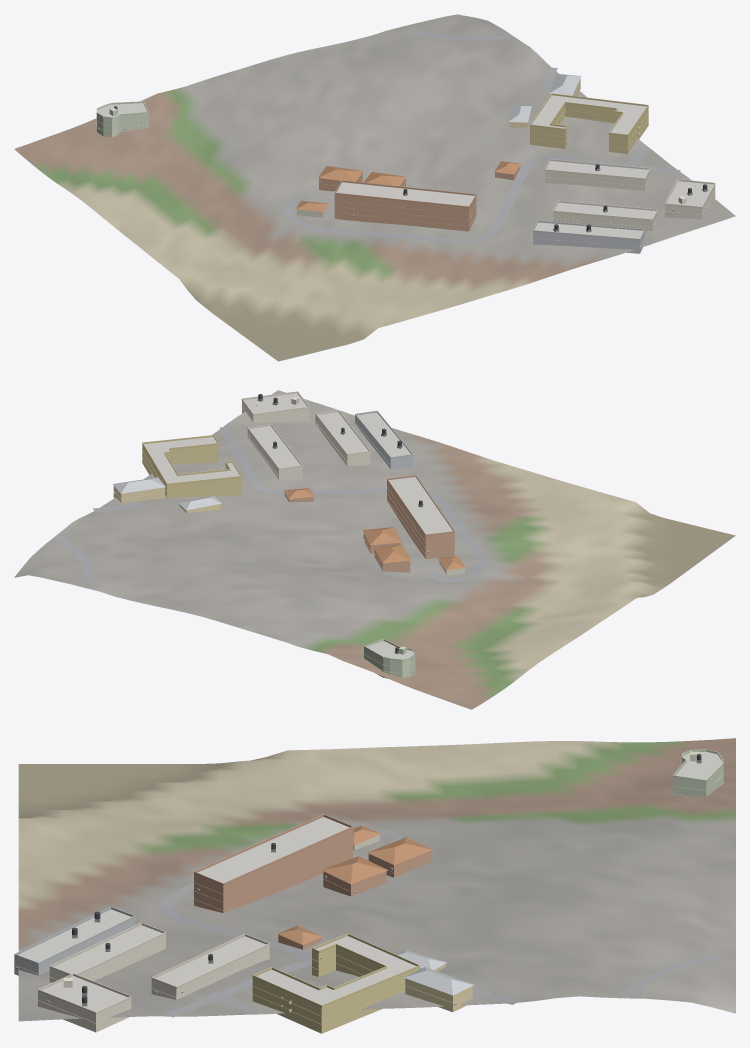
3 views of the same model, one above another, from view 1: azimuth 30°, elevation 25°; view 2: azimuth 150°, elevation 25°; view 3: azimuth 270°, elevation 25° (orthographic). The views are drawn at different scales.
Parts seen in each view (by area): view 1: Terrain-col, Buildings-col, Details, Roads-col; view 2: Terrain-col, Buildings-col, Details, Roads-col; view 3: Terrain-col, Buildings-col, Details, Roads-col.
Part boxes in pixels (x1,y1,x2,y2): Terrain-col: (14,14,735,361); Buildings-col: (96,74,715,253); Details: (96,82,715,247); Roads-col: (281,29,680,242); Terrain-col: (14,390,735,709); Buildings-col: (113,393,465,678); Details: (113,391,454,673); Roads-col: (55,426,488,581); Terrain-col: (18,738,735,1021); Buildings-col: (14,751,723,1033); Details: (14,749,723,1024); Roads-col: (160,828,720,1017).
Bounding box in the file's own units: 270 × 32.22 × 258.
